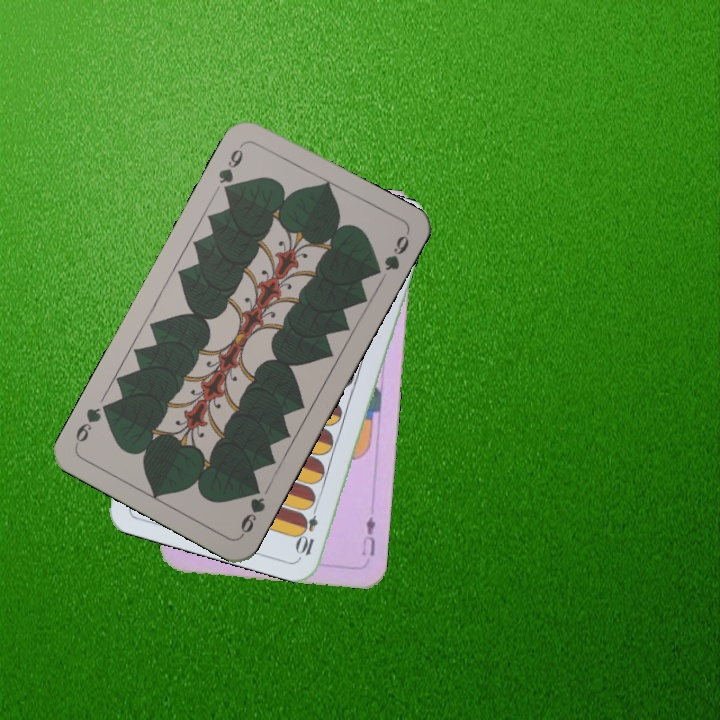E10: (294, 499, 321, 558)
EU: (357, 512, 378, 558)
G9: (236, 480, 268, 539), (214, 140, 246, 199)
